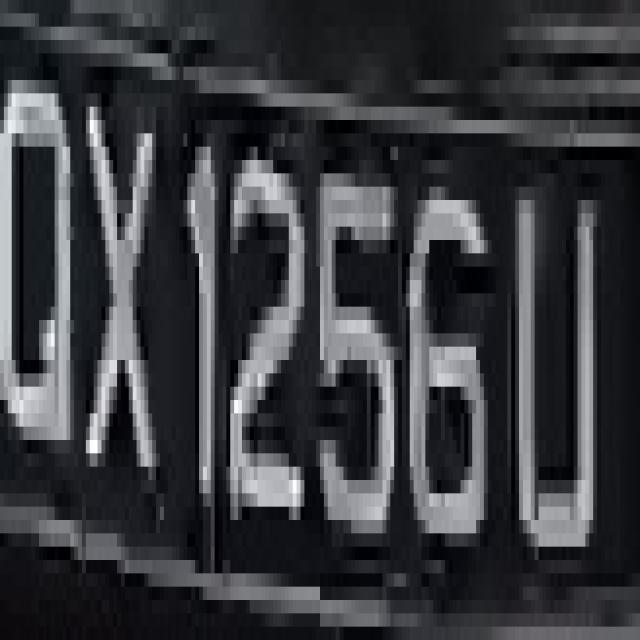1: (184, 107, 222, 533)
2: (222, 107, 304, 533)
5: (308, 120, 402, 560)
6: (398, 160, 496, 587)
Q: (0, 66, 74, 506)
U: (511, 173, 605, 560)
X: (70, 67, 168, 533)
